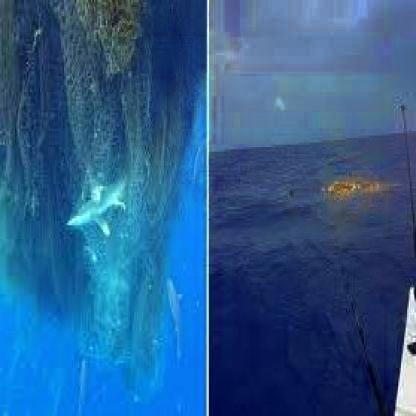net: (1, 2, 190, 182)
